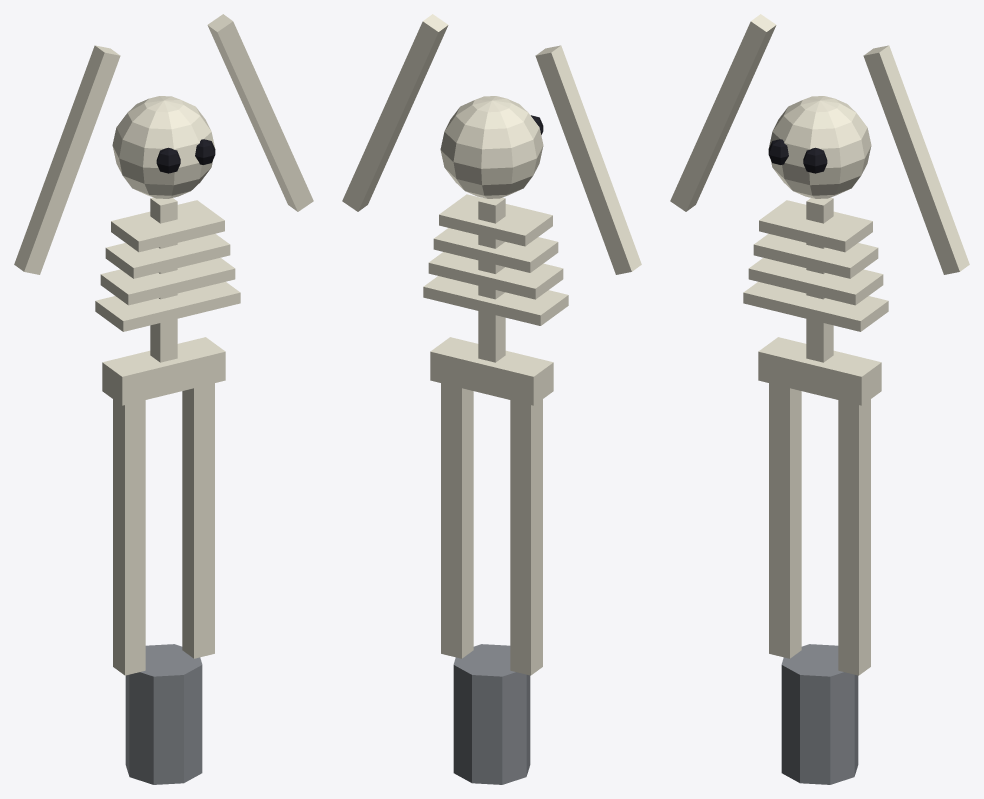
File: fair_skeleton.glb
The picture shows the model from 3 angles, left to right: view 1: azimuth 30°, elevation 25°; view 2: azimuth 150°, elevation 25°; view 3: azimuth 330°, elevation 25°; orthographic projection.
Parts seen in each view (by area): view 1: legs_fair_bone, ribs_fair_bone, arms_fair_bone, spring_fair_steel, skull_fair_bone, hips_fair_bone, spine_fair_bone, eyes_ghost_dark; view 2: legs_fair_bone, ribs_fair_bone, arms_fair_bone, spring_fair_steel, skull_fair_bone, hips_fair_bone, spine_fair_bone; view 3: legs_fair_bone, ribs_fair_bone, arms_fair_bone, spring_fair_steel, skull_fair_bone, hips_fair_bone, spine_fair_bone, eyes_ghost_dark.
Part boxes in pixels (box(x1,y1,x2,y2)): legs_fair_bone: box(113, 383, 214, 675); ribs_fair_bone: box(95, 200, 240, 331); arms_fair_bone: box(14, 14, 313, 274); spring_fair_steel: box(125, 644, 202, 784); skull_fair_bone: box(112, 96, 215, 198); hips_fair_bone: box(102, 337, 225, 405); spine_fair_bone: box(150, 197, 177, 362); eyes_ghost_dark: box(156, 139, 215, 173); legs_fair_bone: box(441, 383, 542, 675); ribs_fair_bone: box(423, 194, 568, 325); arms_fair_bone: box(342, 14, 641, 274); spring_fair_steel: box(453, 644, 530, 784); skull_fair_bone: box(440, 96, 543, 198); hips_fair_bone: box(430, 337, 553, 405); spine_fair_bone: box(478, 197, 505, 362); legs_fair_bone: box(769, 383, 870, 675); ribs_fair_bone: box(743, 200, 888, 331); arms_fair_bone: box(670, 14, 969, 274); spring_fair_steel: box(781, 644, 858, 784); skull_fair_bone: box(768, 96, 871, 198); hips_fair_bone: box(758, 337, 881, 405); spine_fair_bone: box(806, 197, 833, 362); eyes_ghost_dark: box(768, 139, 827, 173).
Bounding box in the file's own units: 0.8397 × 2.04 × 0.2639.
